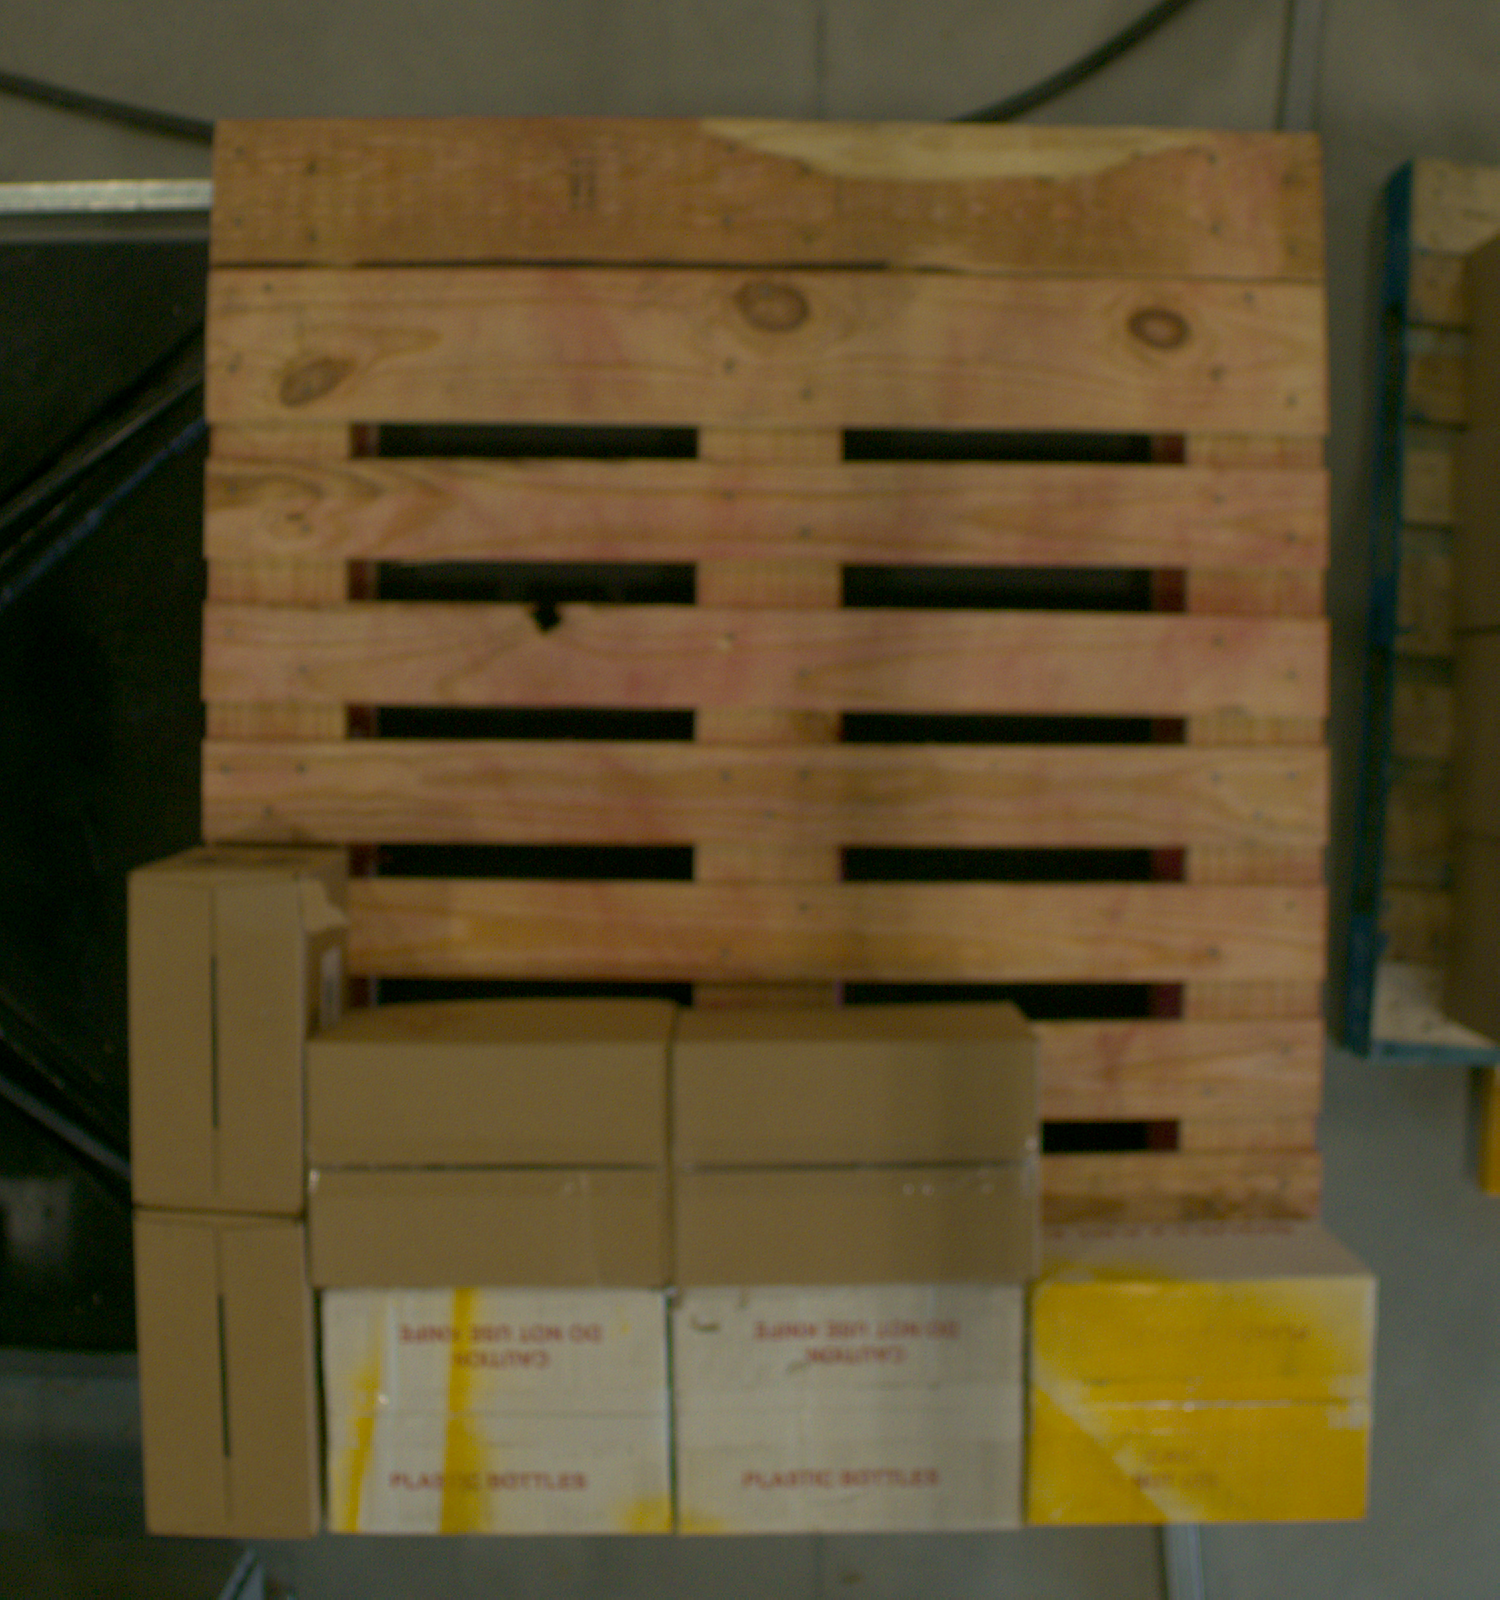box top: (736, 980, 976, 1345), (725, 1236, 973, 1584), (369, 984, 609, 1343), (1029, 1280, 1377, 1527), (378, 1243, 617, 1584), (135, 1215, 321, 1538), (130, 875, 306, 1214)
